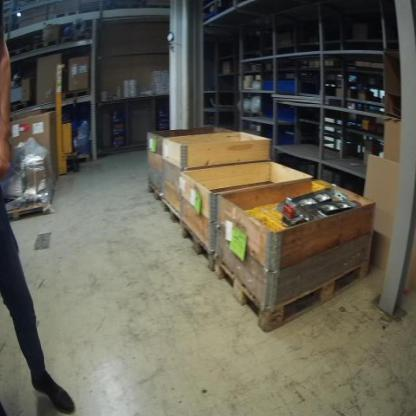pallet: (211, 248, 374, 341)
